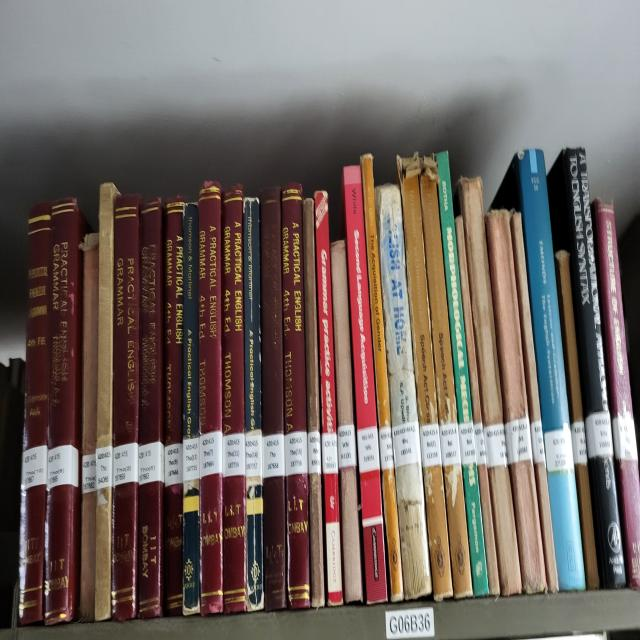Book: (505, 149, 585, 590), (548, 149, 626, 587), (456, 179, 521, 595), (398, 154, 452, 601), (485, 208, 546, 593), (436, 152, 489, 595), (375, 184, 431, 598), (420, 165, 472, 598), (342, 165, 388, 603), (360, 154, 404, 601), (44, 198, 88, 625), (592, 200, 640, 590), (510, 211, 559, 593), (455, 216, 500, 595), (555, 249, 600, 590), (19, 203, 51, 625), (111, 195, 141, 620), (281, 184, 310, 609), (260, 187, 288, 611), (315, 192, 342, 603), (139, 198, 164, 620), (95, 181, 119, 620), (222, 184, 246, 611), (199, 181, 222, 614), (164, 198, 184, 614), (244, 198, 264, 611), (79, 233, 99, 622), (182, 203, 200, 614), (330, 241, 354, 427), (302, 198, 320, 433)
Label: (544, 422, 574, 473), (46, 444, 79, 490), (585, 411, 614, 460), (392, 422, 421, 468), (505, 417, 532, 465), (612, 411, 638, 460), (21, 446, 48, 490), (112, 444, 139, 487), (199, 430, 222, 479), (484, 422, 508, 468), (139, 441, 164, 484), (262, 433, 285, 479), (285, 430, 308, 476), (358, 427, 380, 473), (222, 433, 245, 476), (420, 422, 441, 468), (439, 422, 461, 465), (571, 419, 588, 465), (164, 444, 182, 487), (338, 425, 356, 468), (182, 438, 199, 482), (245, 433, 262, 476), (459, 422, 476, 465), (321, 433, 339, 473), (96, 446, 112, 490), (530, 419, 545, 465), (379, 427, 394, 471), (308, 430, 321, 473), (82, 455, 96, 492), (474, 422, 486, 465)
